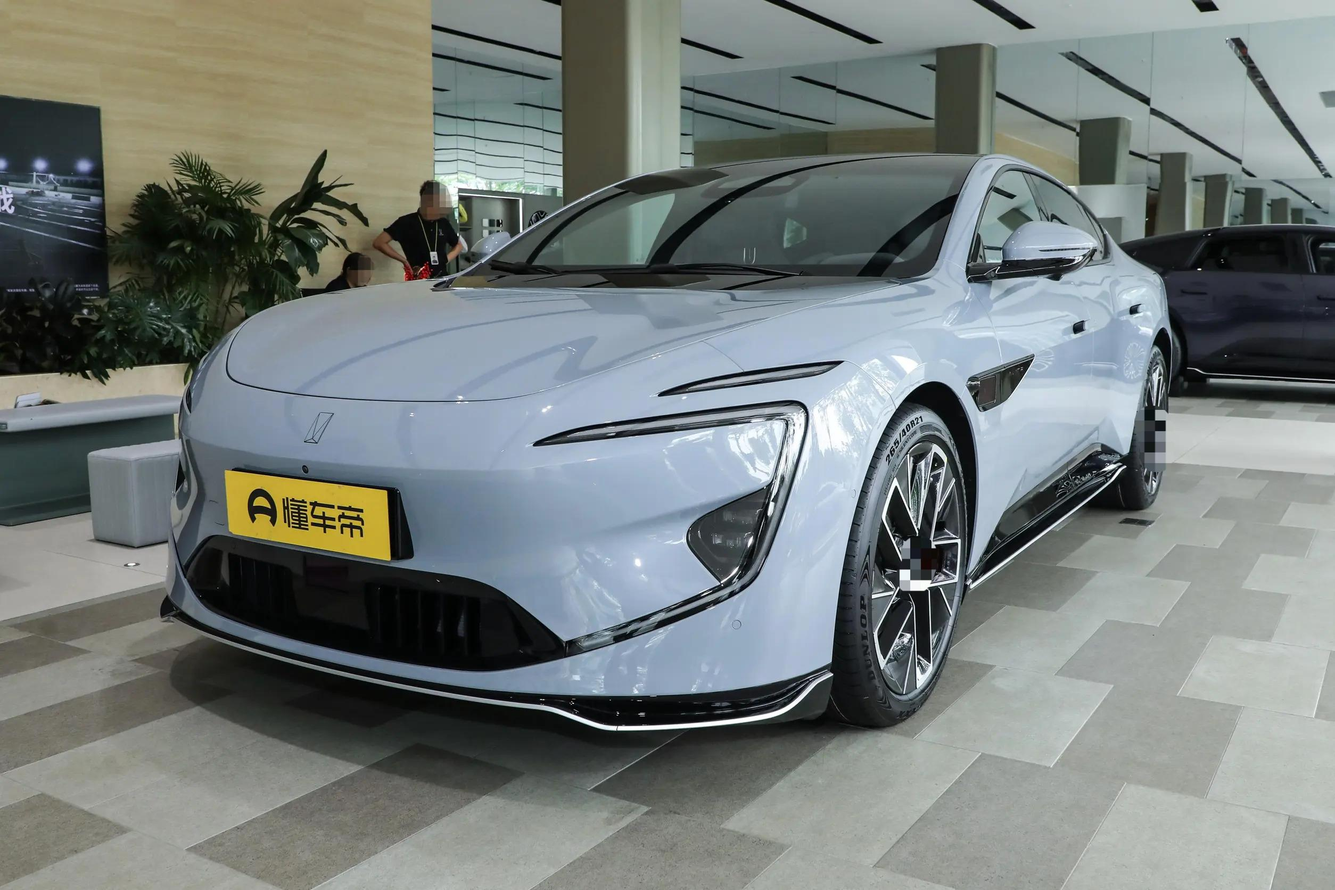AVATR: (303, 412, 334, 443)
